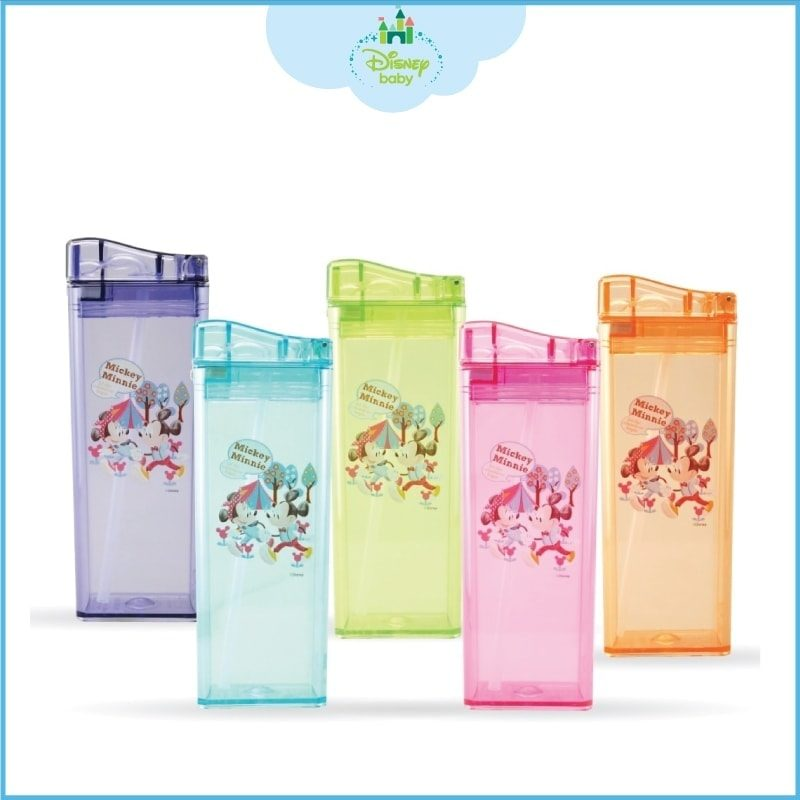carton: (314, 197, 485, 670), (588, 222, 760, 689), (52, 193, 218, 632), (442, 306, 613, 729), (179, 296, 345, 723)
